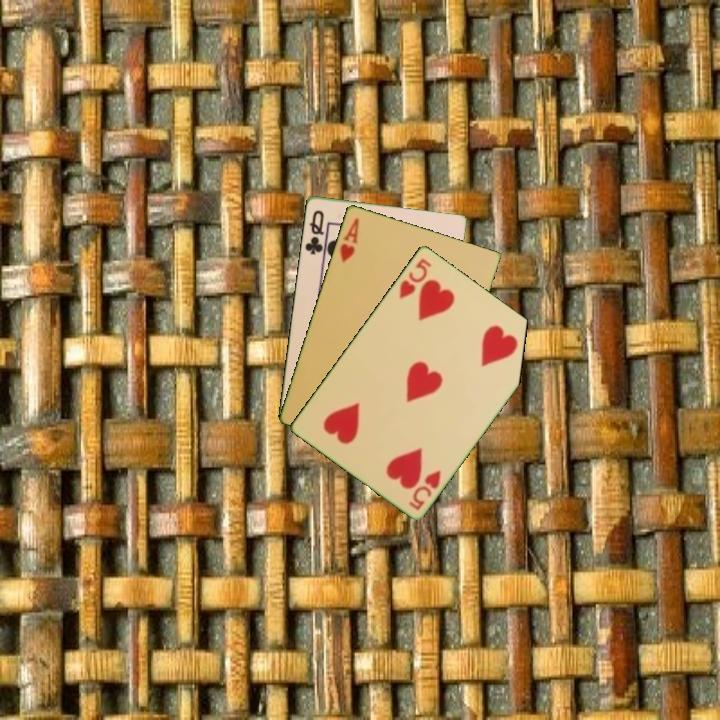5h: (395, 254, 434, 301), (406, 466, 444, 513)
Ah: (336, 214, 362, 265)
Qc: (301, 206, 327, 257)
